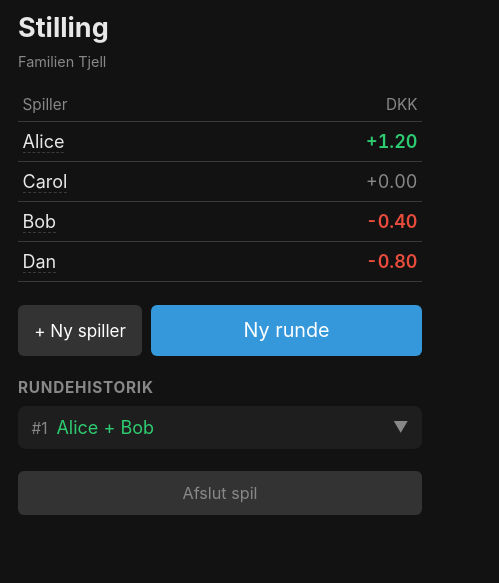
Test: Scoreboard › clears the name input and hides form after adding a player
Click the button "+ Ny spiller". click: x=80, y=330
box: [18, 305, 142, 356]
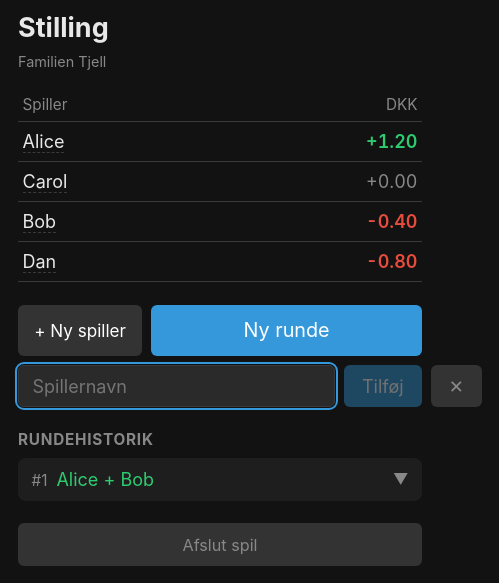
Type "Eve" into the field with placeholder "Spillernavn". click: x=176, y=386
box: [18, 365, 335, 408]
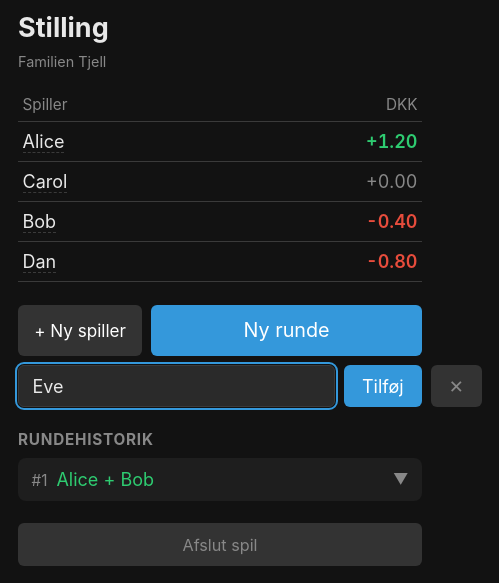
Click the button "Tilføj". click: x=383, y=386
box: [344, 365, 422, 408]
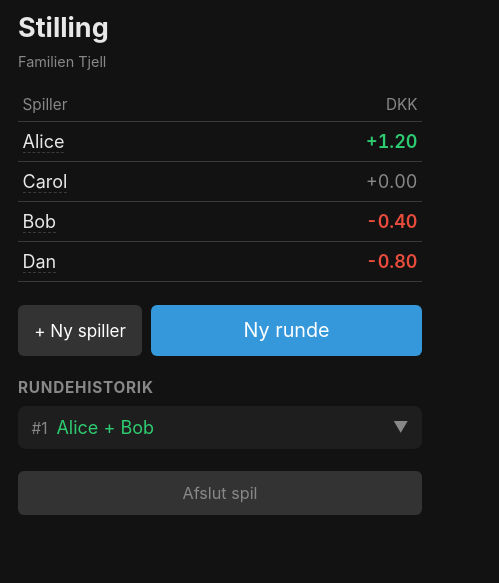
Check: the field with placeholder "spillernavn" is gone
